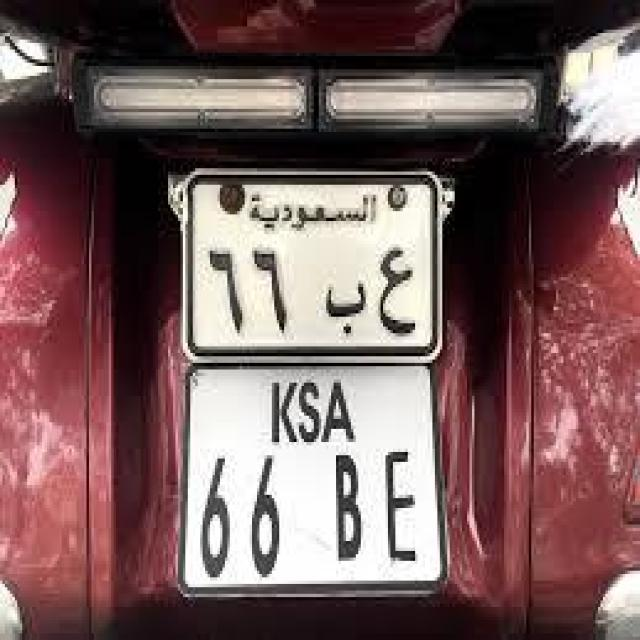license_plate: (153, 290, 465, 607), (158, 145, 452, 396)
